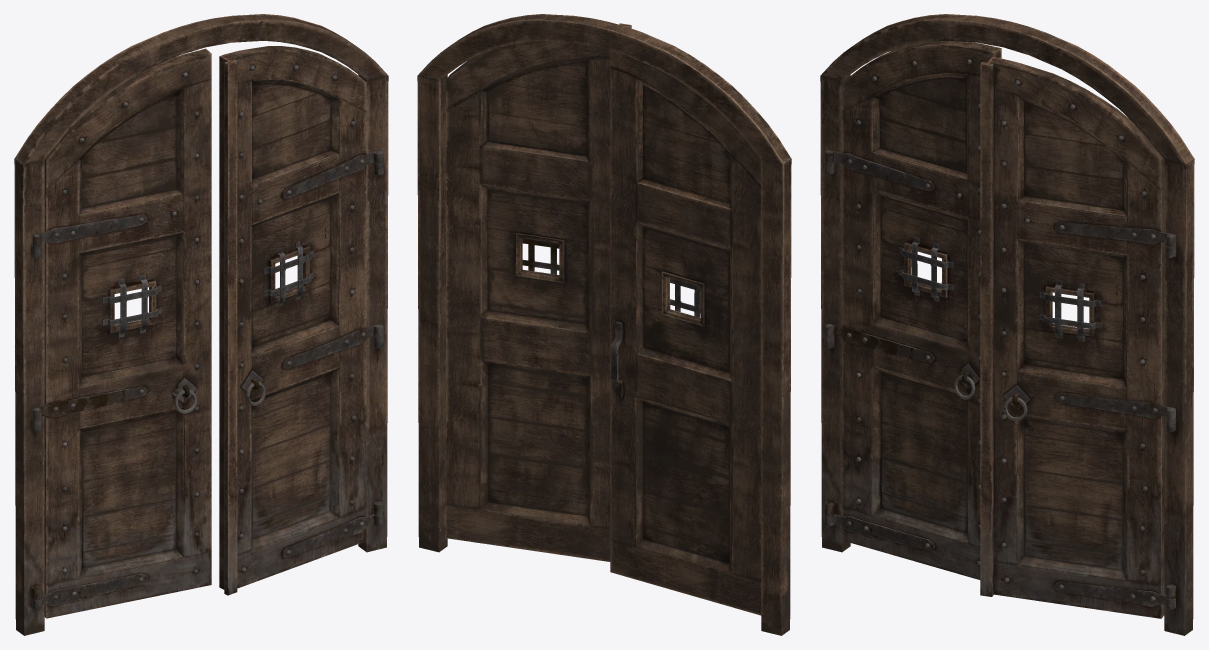
Rendered from castle-door.glb.
The picture shows the model from 3 angles, left to right: view 1: azimuth 30°, elevation 25°; view 2: azimuth 150°, elevation 25°; view 3: azimuth 330°, elevation 25°; orthographic projection.
Visible parts, largest first — view 1: large_castle_door_frame; view 2: large_castle_door_frame; view 3: large_castle_door_frame.
Part boxes in pixels (x1=…): large_castle_door_frame: x1=14, y1=14, x2=388, y2=635; large_castle_door_frame: x1=417, y1=14, x2=791, y2=635; large_castle_door_frame: x1=820, y1=14, x2=1194, y2=635.
Bounding box in the file's own units: 2.01 × 2.96 × 0.2964.
Materials: 1 (1 with a texture image).
